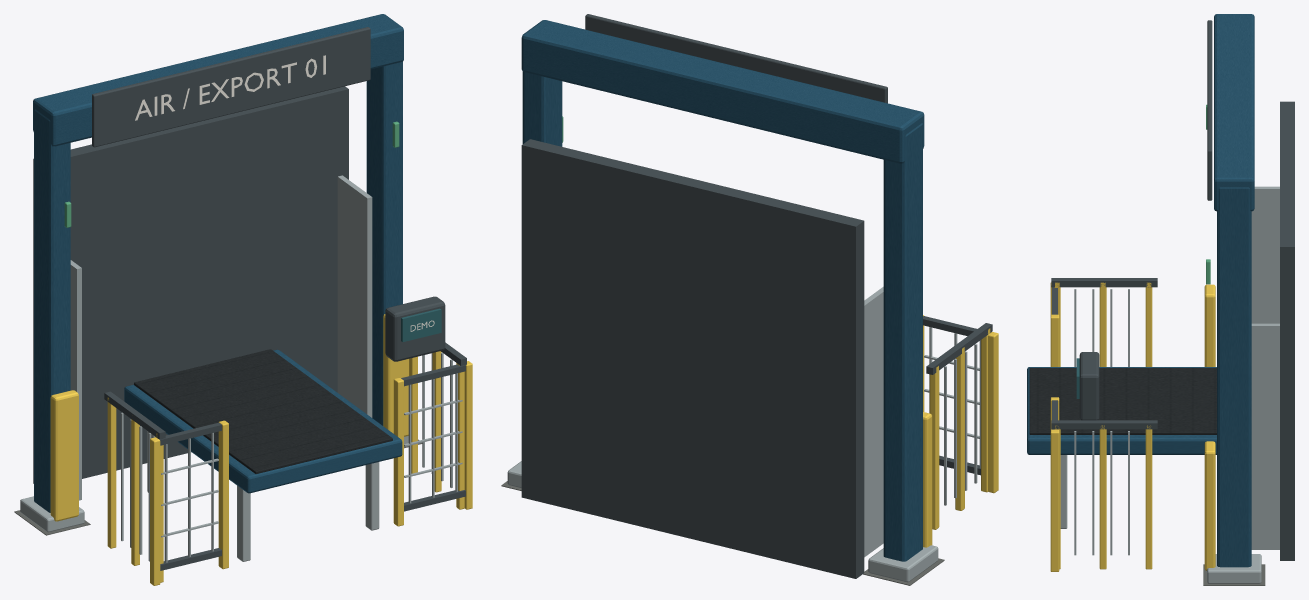
File: export_gate.glb
3 renders of one model, left to right at view 1: azimuth 30°, elevation 25°; view 2: azimuth 150°, elevation 25°; view 3: azimuth 270°, elevation 25°, orthographic. The views are drawn at different scales.
Visible parts, largest first — view 1: Charcoal Metal, Blue Painted Steel PBR, Brushed Steel, Rubber PBR, Safety Ochre, Label Stock, Standby LCD; view 2: Charcoal Metal, Blue Painted Steel PBR, Brushed Steel, Safety Ochre; view 3: Blue Painted Steel PBR, Brushed Steel, Charcoal Metal, Rubber PBR, Safety Ochre.
Boxes of the visible parts, box(x1,y1,x2,y2) form: Charcoal Metal: box(33, 27, 466, 570); Blue Painted Steel PBR: box(33, 14, 403, 512); Brushed Steel: box(20, 175, 462, 562); Rubber PBR: box(134, 349, 392, 473); Safety Ochre: box(50, 314, 472, 585); Label Stock: box(135, 55, 434, 331); Standby LCD: box(401, 308, 441, 341); Charcoal Metal: box(521, 14, 992, 578); Blue Painted Steel PBR: box(521, 20, 924, 561); Brushed Steel: box(507, 286, 980, 582); Safety Ochre: box(923, 315, 998, 547); Blue Painted Steel PBR: box(1027, 14, 1254, 567); Brushed Steel: box(1060, 186, 1279, 583); Charcoal Metal: box(1051, 20, 1294, 560); Rubber PBR: box(1029, 368, 1216, 434); Safety Ochre: box(1050, 282, 1215, 571).
Bounding box in the file's own units: 3.4 × 3.67 × 2.17.
Materials: 9 (2 with a texture image).
